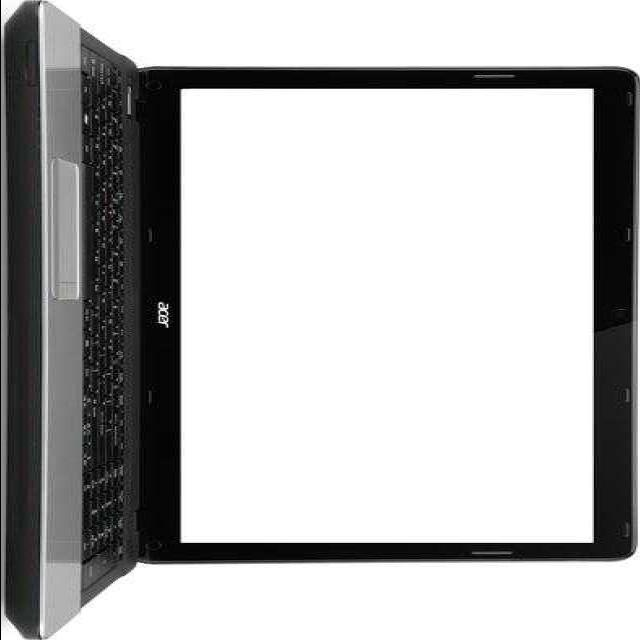laptop: (20, 61, 636, 560)
